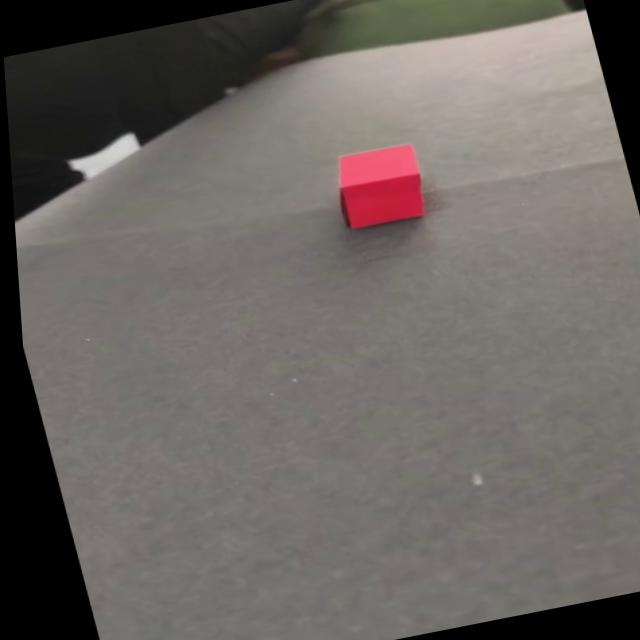red block: (325, 140, 432, 230)
